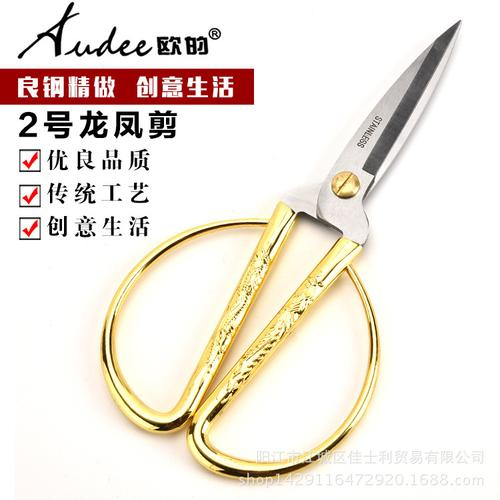scissor: (101, 14, 465, 481)
